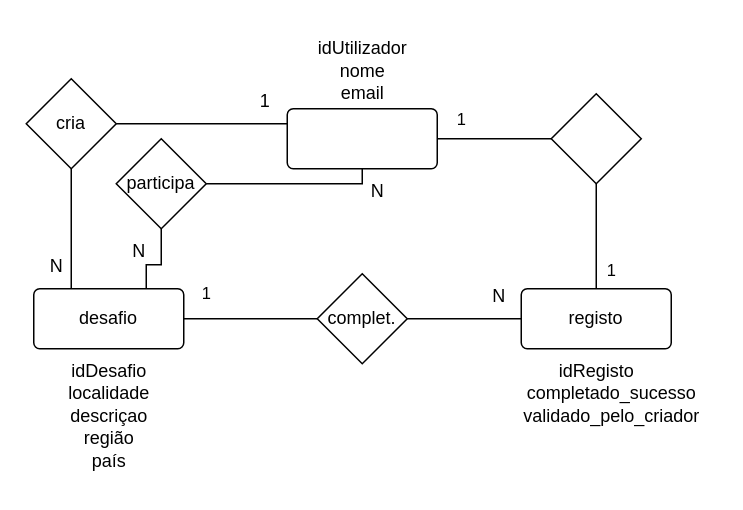
The diagram is 743 pixels wide and 510 high, and some of its shapes have lost their labels. The box of each missing label's shape, as (x1, y1, x2, y2) in pixels:
utilizador: (286, 107, 437, 169)
validar: (550, 92, 641, 184)
